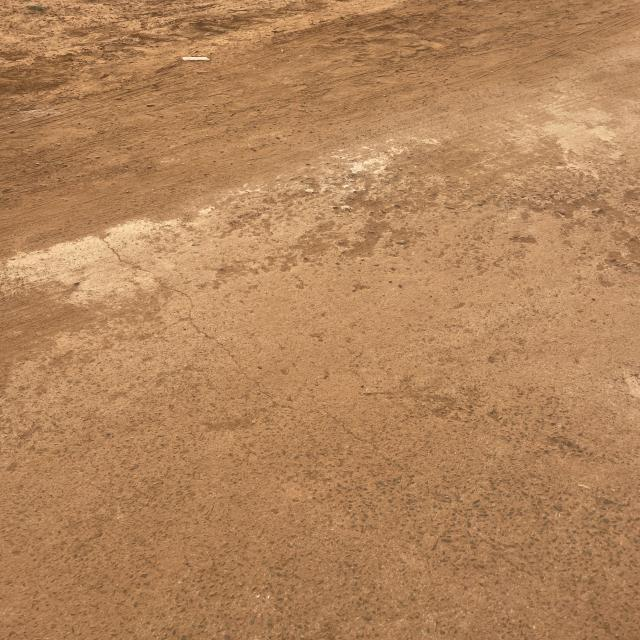D43: (28, 45, 609, 368)
